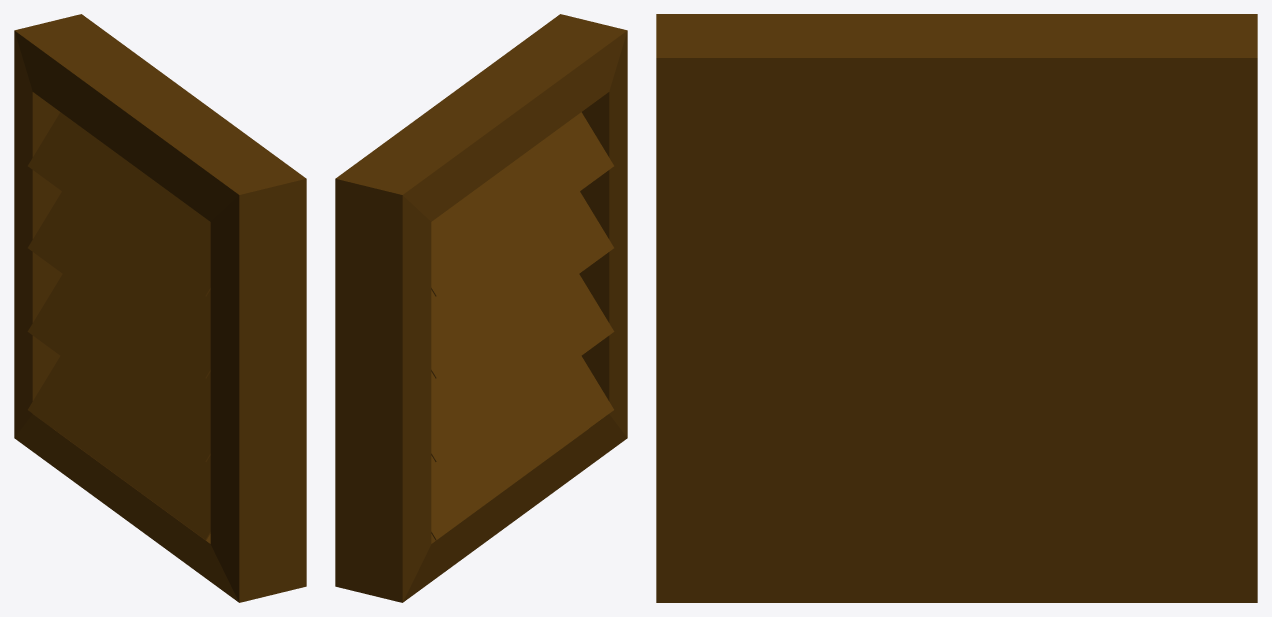
The model's file is Vertical_Vent.fbx.
The picture shows the model from 3 angles, left to right: view 1: azimuth 30°, elevation 25°; view 2: azimuth 150°, elevation 25°; view 3: azimuth 270°, elevation 25°; orthographic projection. The views are drawn at different scales.
Visible parts, largest first — view 1: Vertical.Vent; view 2: Vertical.Vent; view 3: Vertical.Vent.
Boxes of the visible parts, <box> form: Vertical.Vent: <box>14,14,306,602</box>; Vertical.Vent: <box>335,14,627,602</box>; Vertical.Vent: <box>656,14,1257,602</box>.
Size of the model in its own units: 9.96 by 50 by 50.
